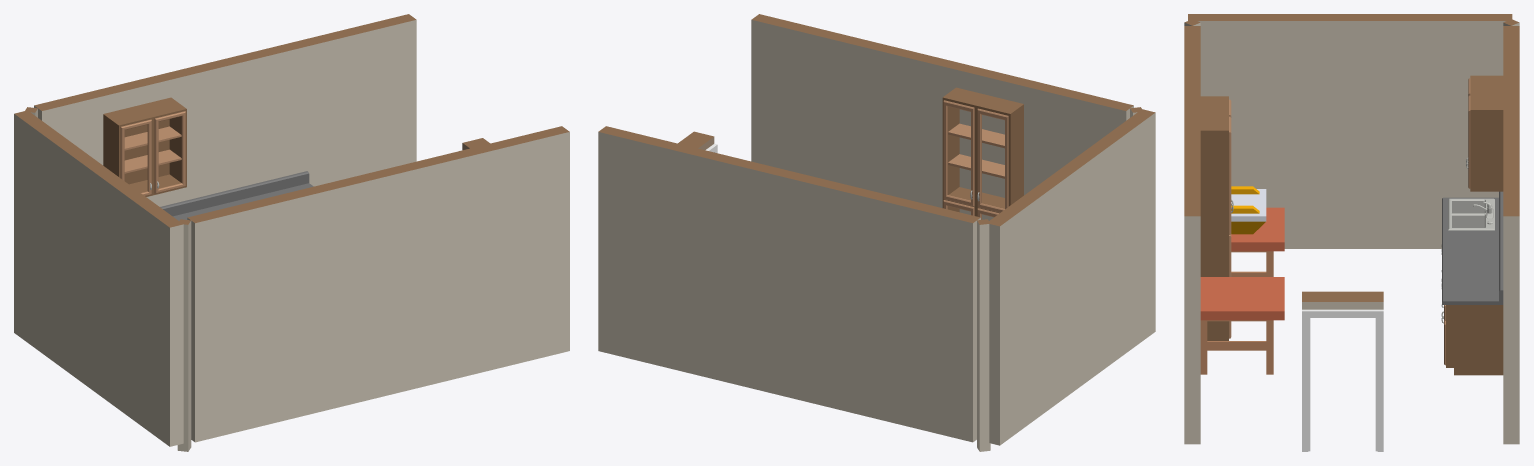
File: darkroom_placeholder.obj
The picture shows the model from 3 angles, left to right: view 1: azimuth 30°, elevation 25°; view 2: azimuth 150°, elevation 25°; view 3: azimuth 270°, elevation 25°; orthographic projection. The views are drawn at different scales.
Visible parts, largest first — view 1: mergedBlocks; view 2: mergedBlocks; view 3: mergedBlocks.
Boxes of the visible parts, box(x1,y1,x2,y2) form: mergedBlocks: box(14, 14, 569, 451); mergedBlocks: box(598, 14, 1155, 451); mergedBlocks: box(1184, 14, 1519, 451).
Bounding box in the file's own units: 6.03 × 3.19 × 4.1.
